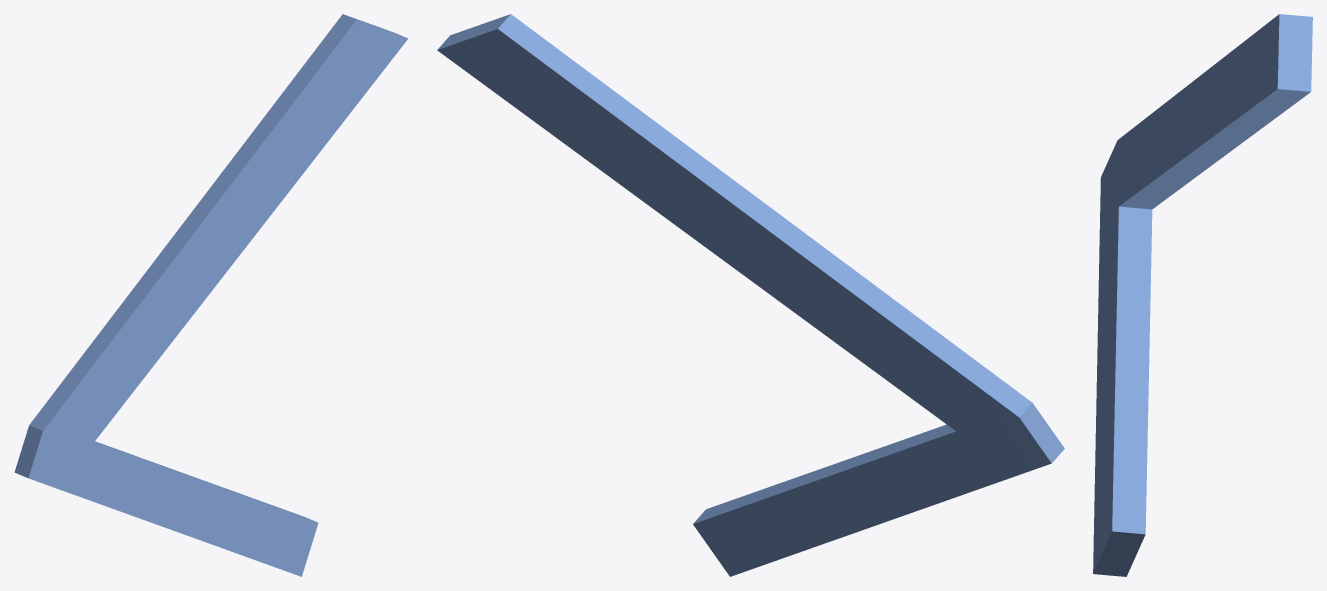
The model's file is Sub_2_Cell_2_3_New_Number_7.gltf.
The picture shows the model from 3 angles, left to right: view 1: azimuth 30°, elevation 25°; view 2: azimuth 150°, elevation 25°; view 3: azimuth 270°, elevation 25°; orthographic projection. The views are drawn at different scales.
Parts seen in each view (by area): view 1: Part 142; view 2: Part 142; view 3: Part 142.
Boxes of the visible parts, x1,y1,x2,y2 form: Part 142: [14, 14, 408, 576]; Part 142: [437, 14, 1064, 576]; Part 142: [1093, 14, 1312, 576].
Bounding box in the file's own units: 0.00525 × 0.00537 × 0.00166.
